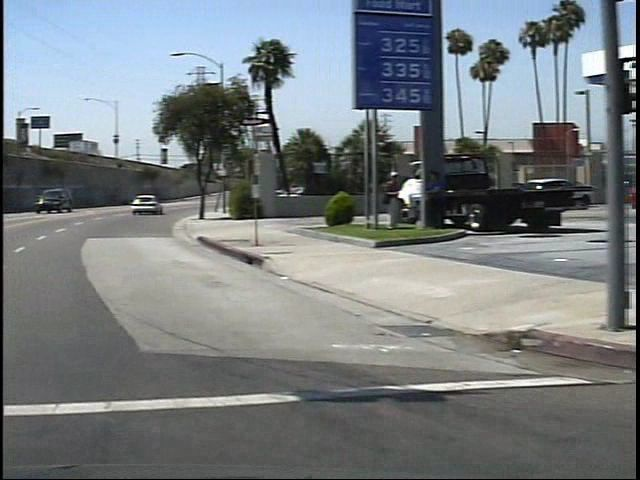person: (370, 163, 397, 230)
